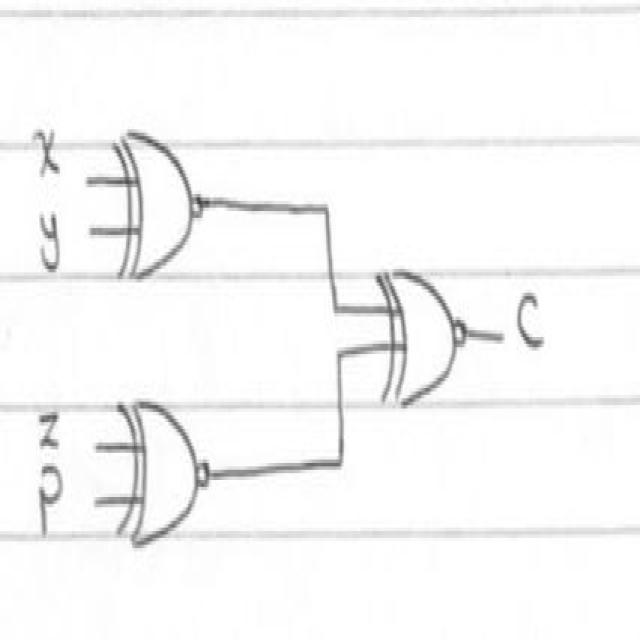XNOR: (102, 109, 216, 307), (112, 378, 216, 558), (371, 241, 472, 426)
